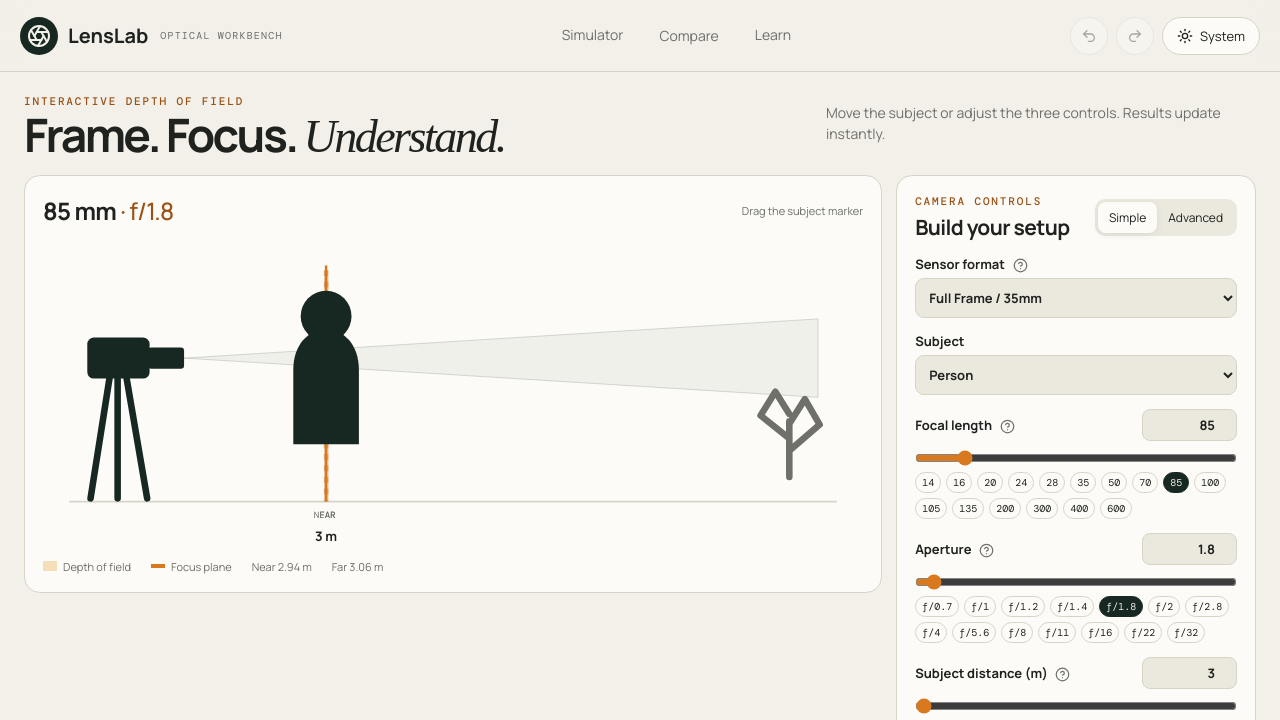
Test: App › switches to advanced technical results
What coordinates should you click on to do the following:
click the button "Advanced"
I would click on:
 (1196, 217)
Its box is [1157,202,1234,233].
(page scrolled)
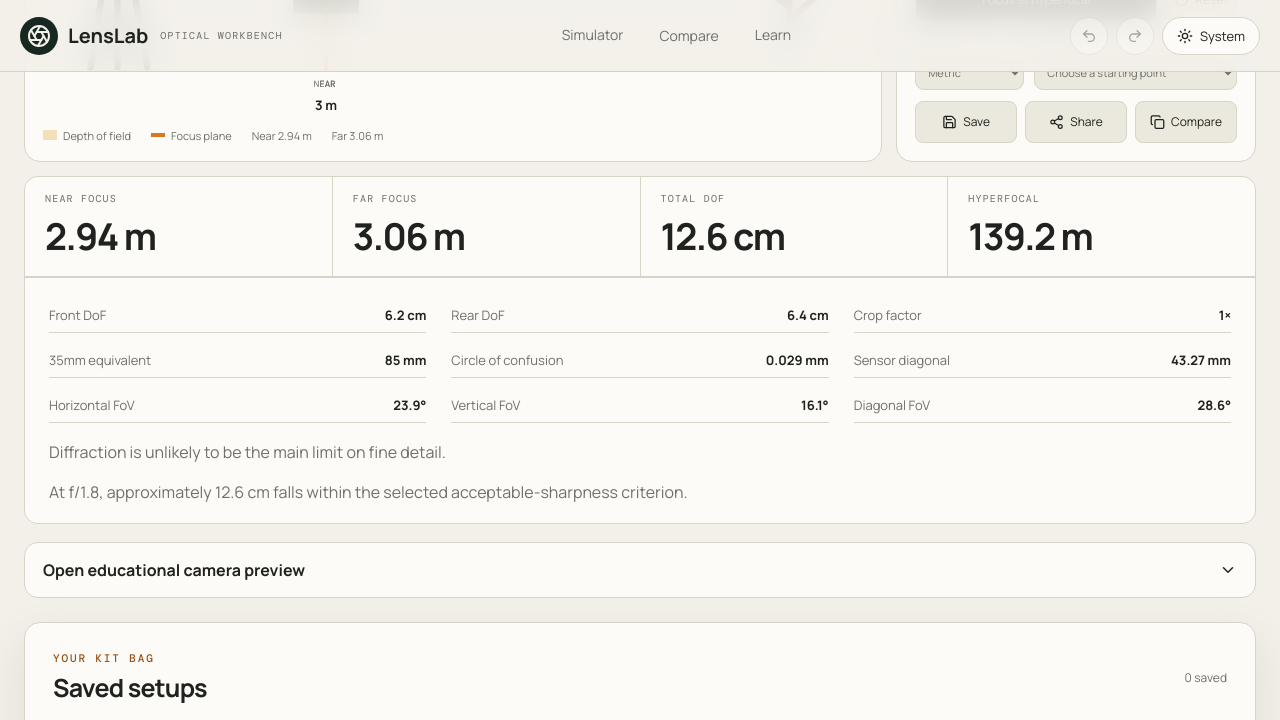
Check: the text "Circle of confusion" is shown, box [451,351,563,369]
